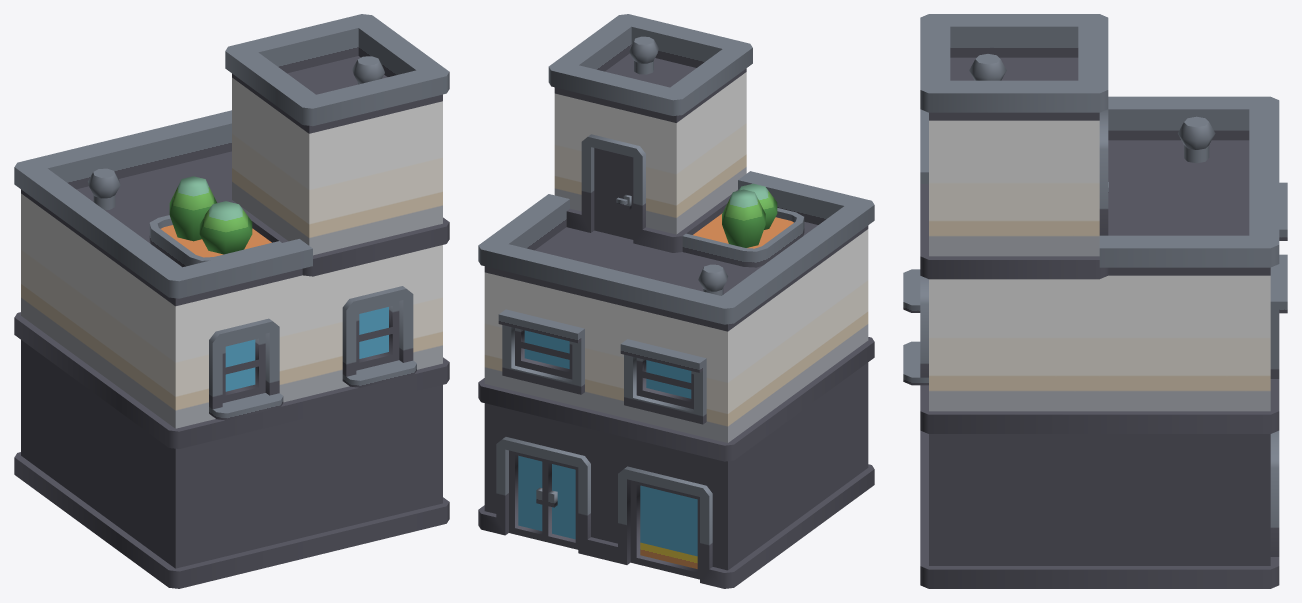
Rendered from building-small-b.glb.
3 views of the same model, side by side, from view 1: azimuth 30°, elevation 25°; view 2: azimuth 150°, elevation 25°; view 3: azimuth 270°, elevation 25° (orthographic). The views are drawn at different scales.
Parts seen in each view (by area): view 1: building-small-b; view 2: building-small-b; view 3: building-small-b.
Boxes of the visible parts, bbox=[...] form: building-small-b: bbox=[14, 14, 449, 588]; building-small-b: bbox=[478, 14, 874, 588]; building-small-b: bbox=[903, 14, 1287, 588].
Size of the model in its own units: 0.7933 by 1.22 by 0.8499.
1 material, 1 textured.
